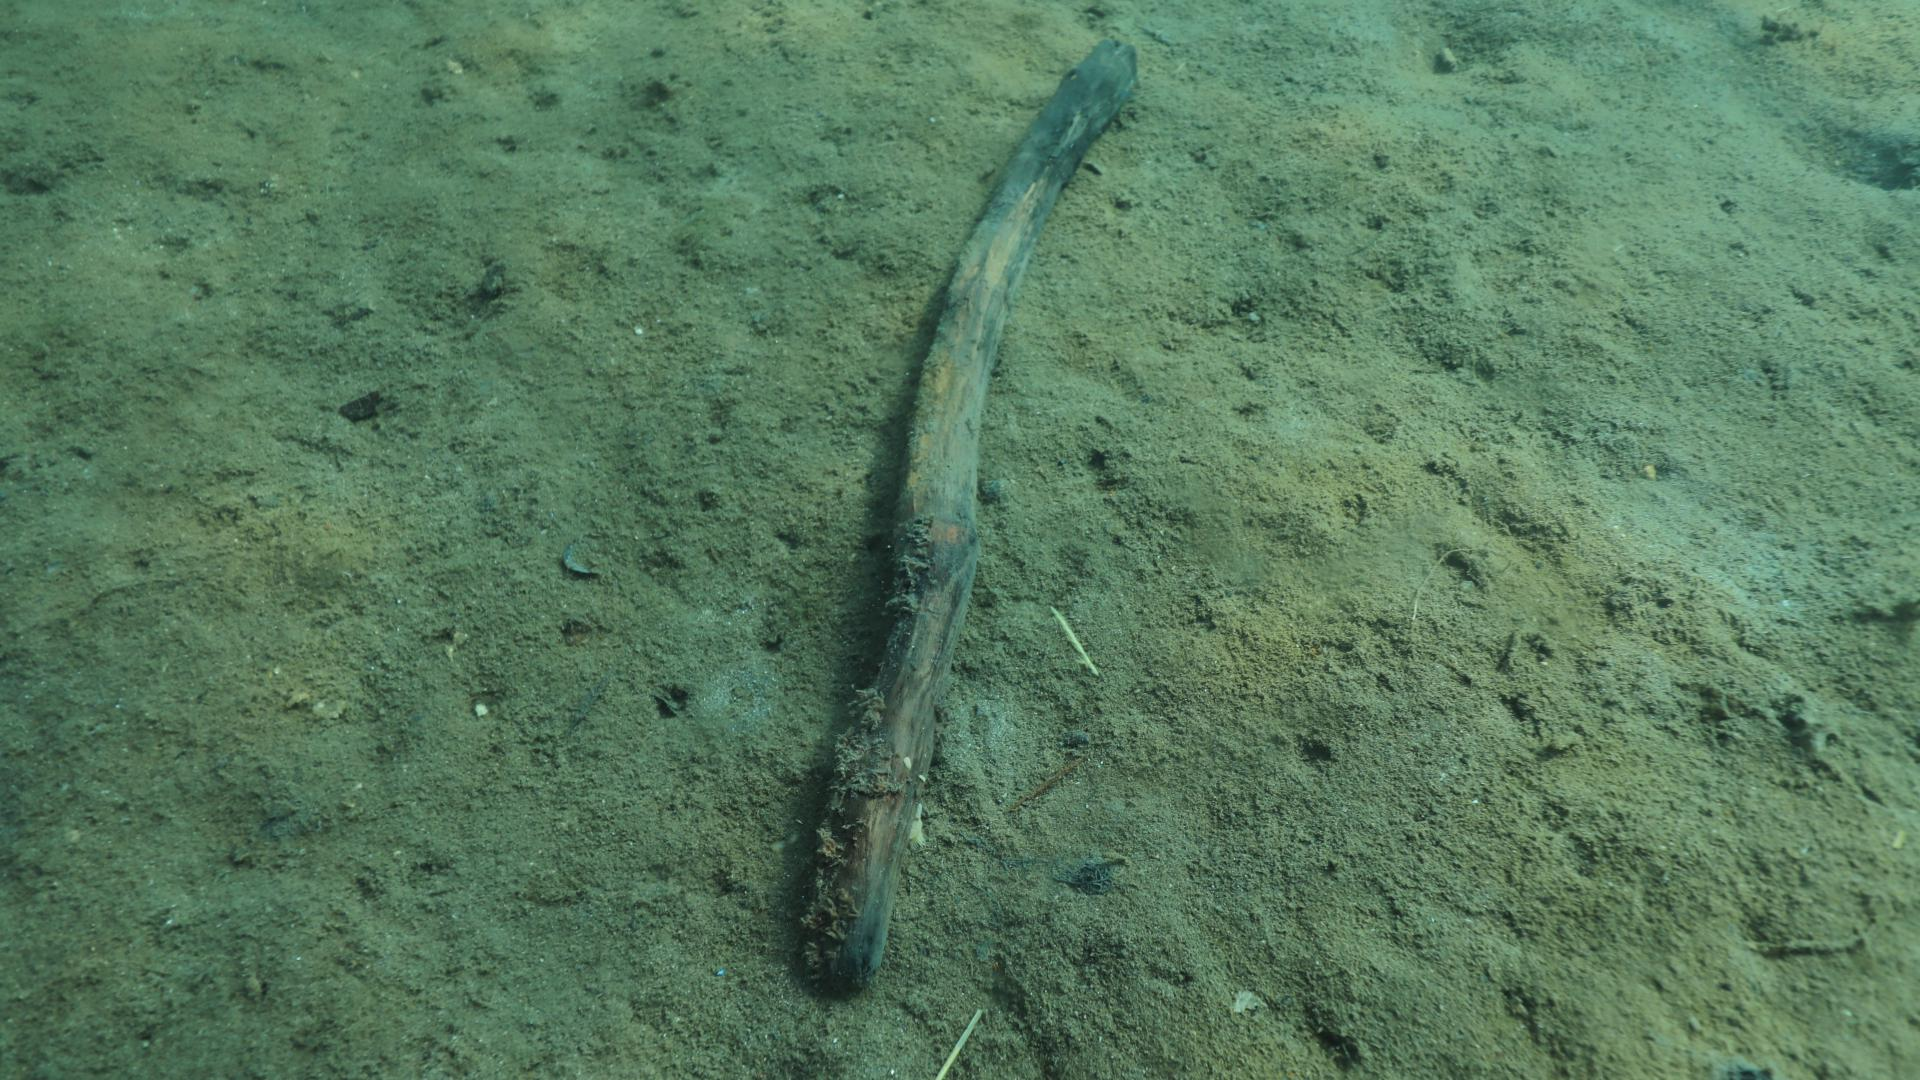wood: (803, 36, 1137, 1001)
